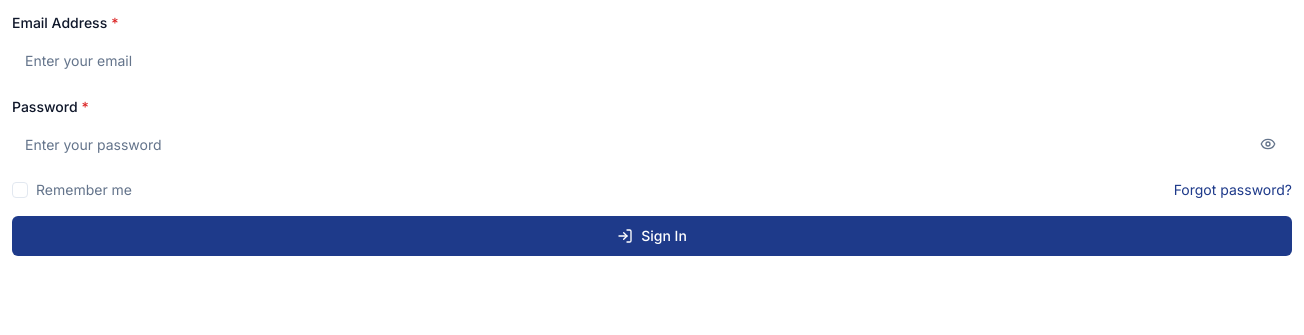
Scenario: LoginForm › should clear general error message on input change
// Simulate a failed login attempt
Step 1. Type "wrong@example.com" into the field labelled "Email Address*" → point(652, 60), box [12,40,1292,80]
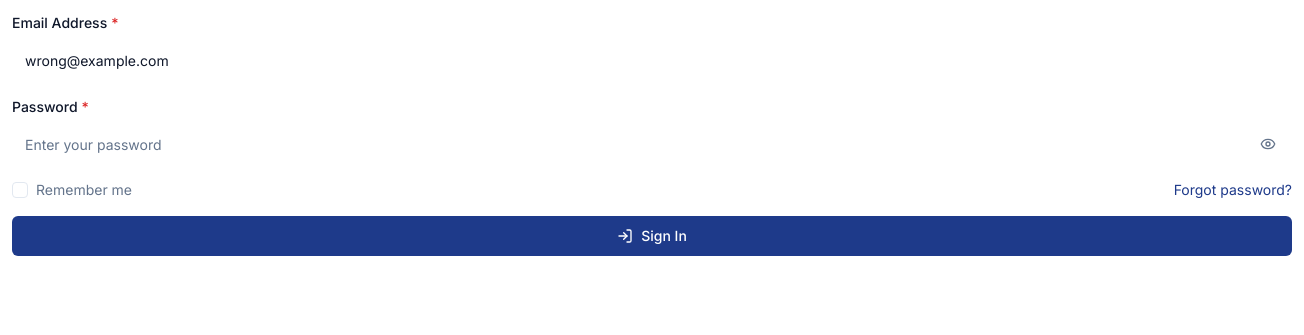
Step 2. Type "wrongpassword" into the password field labelled "Password*" → point(652, 144), box [12,124,1292,164]
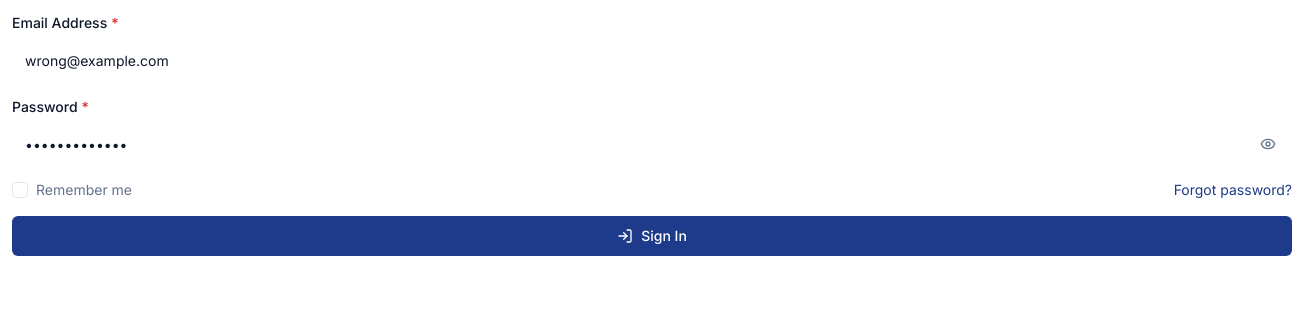
Step 3. Click the button "Sign In" → point(652, 236), box [12,216,1292,256]
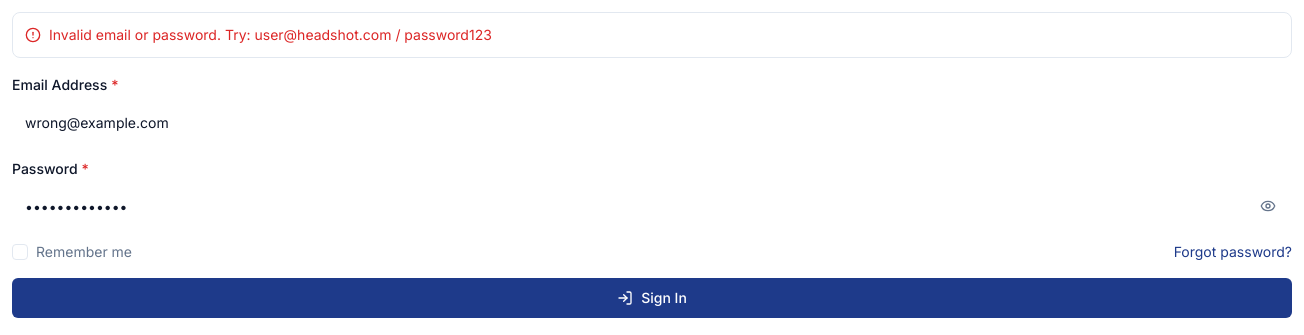
Expected: the text "Invalid email or password" is shown, [49,26,492,43]
// Simulate user typing in the email field
Step 4. Replace the text in the field labelled "Email Address*" with "user@headshot.com" → point(652, 122), box [12,102,1292,142]
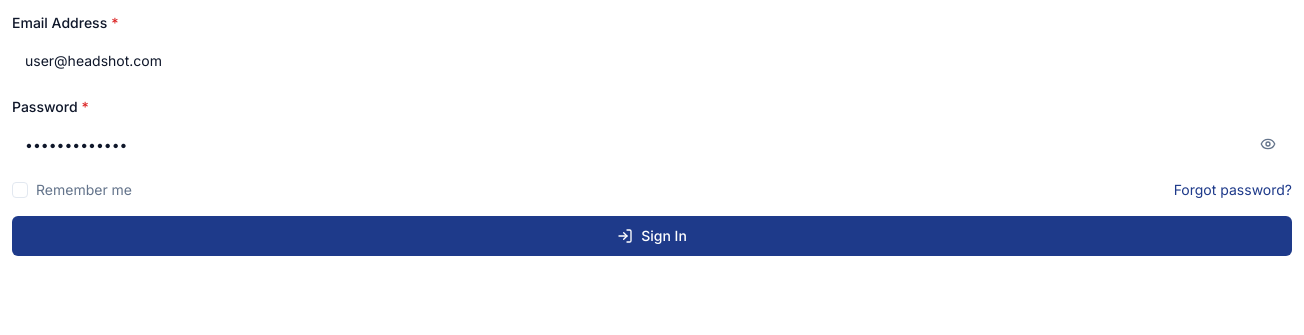
Expected: the text "Invalid email or password" is gone
